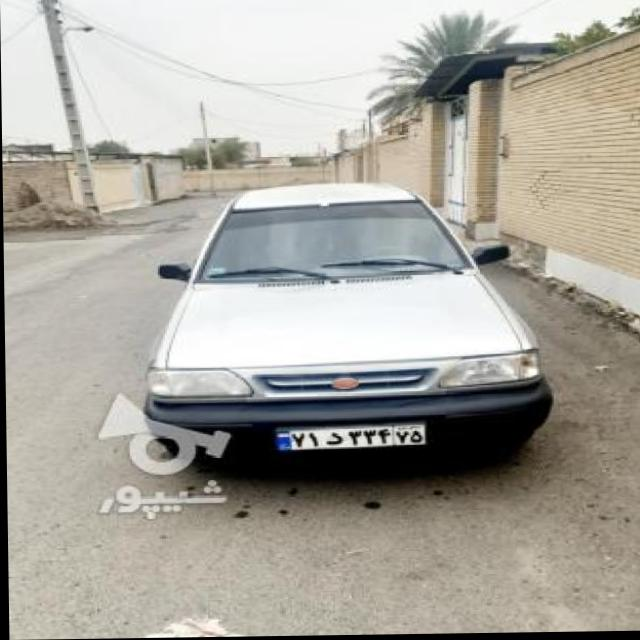licence: (276, 420, 426, 450)
